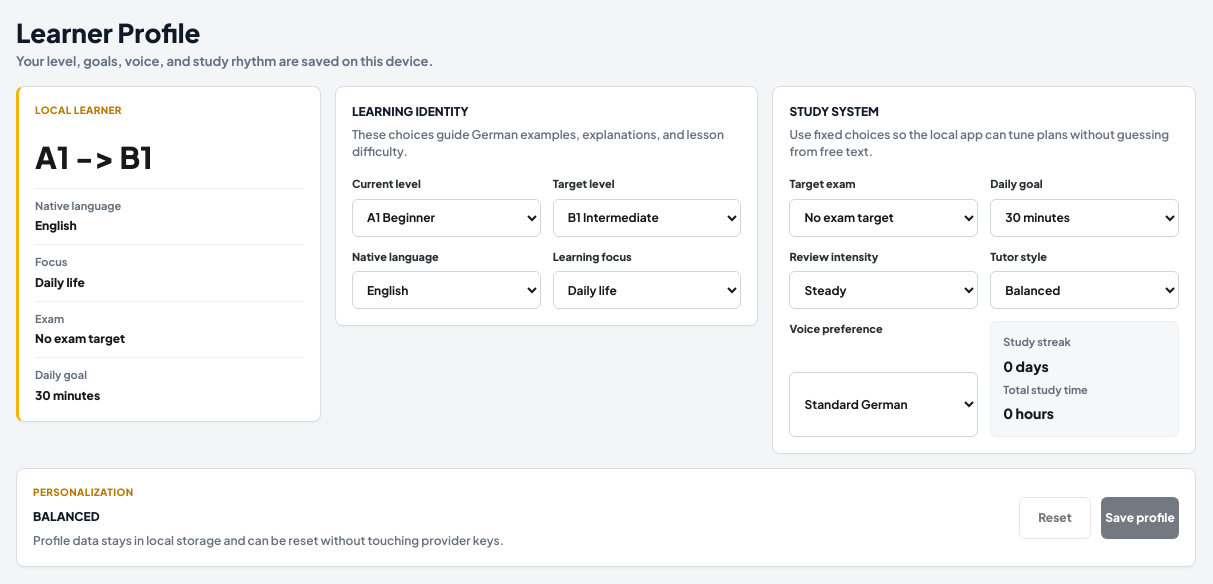
Test case: ProfilePage › saves learner profile choices locally
The width and height of the screenshot is (1213, 584).
Check: the heading "Learner Profile" is shown, box 16,16 -> 200,49
Select "A2 Elementary" in the dropdown labelled "Current level" at (446, 218), box 352,199 -> 541,237
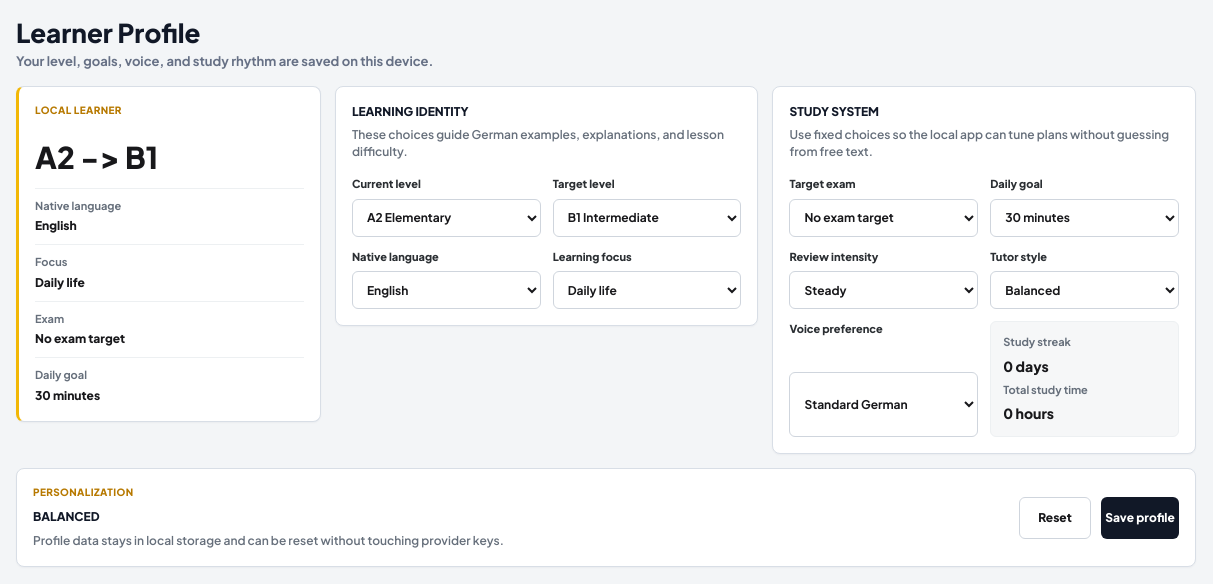
Select "Goethe B1" in the dropdown labelled "Target exam" at (884, 218), box 790,199 -> 978,237
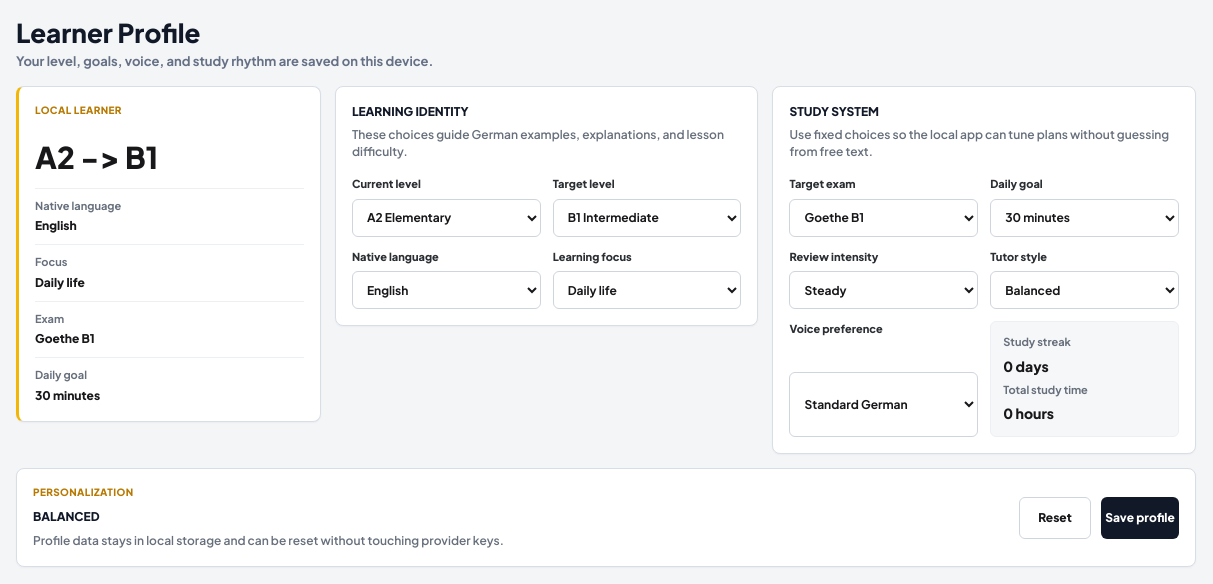
Select "Arabic" in the dropdown labelled "Native language" at (446, 290), box 352,272 -> 541,310
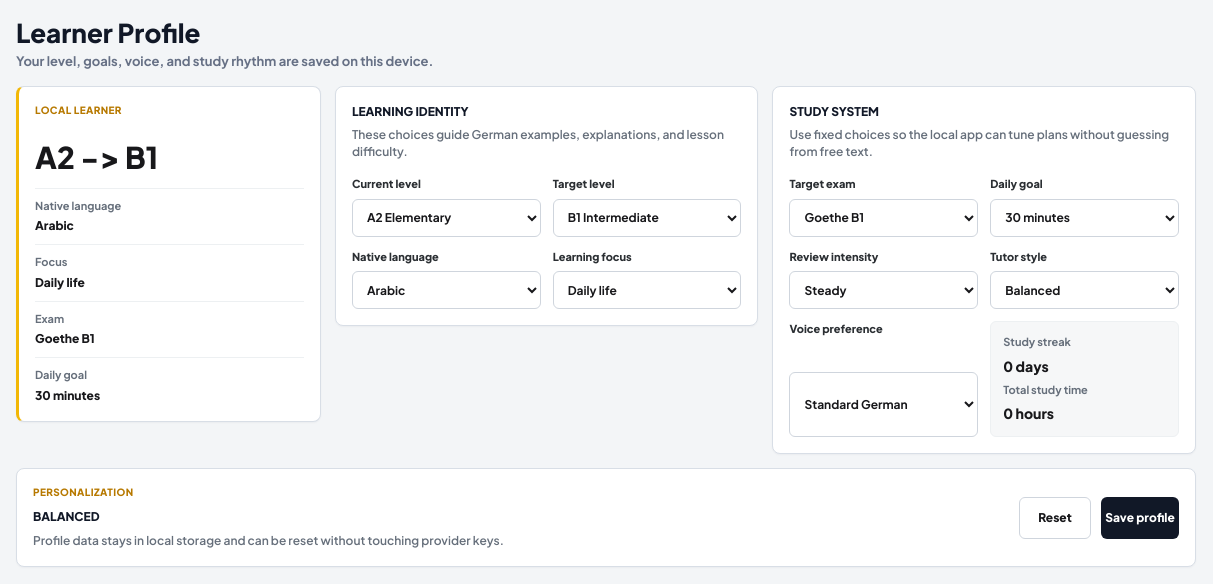
Select "45 minutes" in the dropdown labelled "Daily goal" at (1085, 218), box 990,199 -> 1179,237
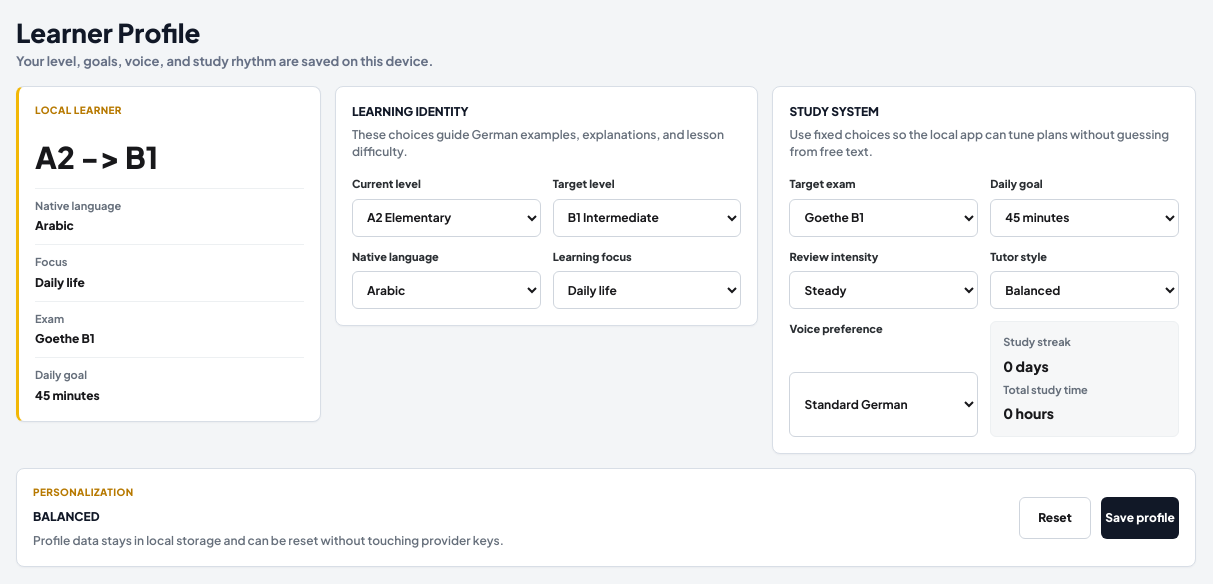
Click the button "Save profile" at (1140, 518), box 1101,497 -> 1179,539
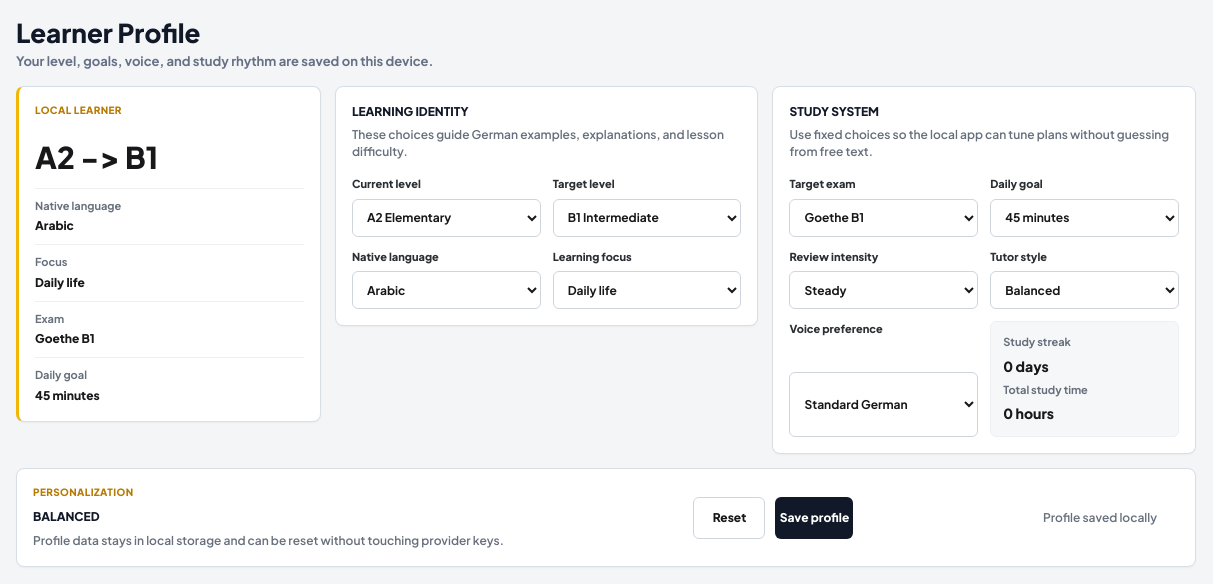
Check: the text "A2 -> B1" is shown, box 35,138 -> 158,176
Check: the text "Profile saved locally" is shown, box 1043,510 -> 1157,525
